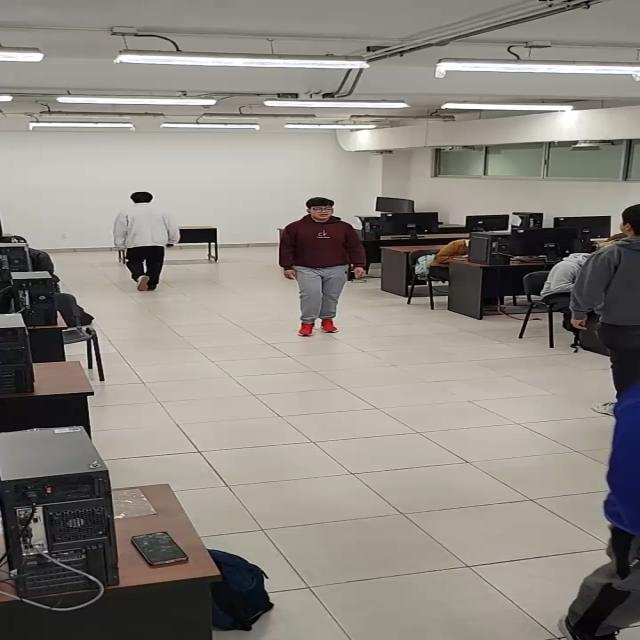Persona: (284, 198, 370, 335), (115, 190, 178, 290)
